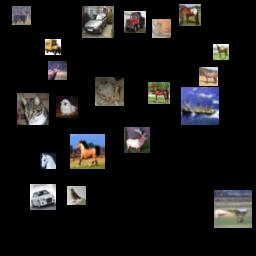airplane: (214, 190, 252, 228)
automobile: (82, 6, 114, 38), (30, 184, 56, 210)
bird: (67, 186, 86, 205)
cat: (17, 93, 49, 125), (152, 19, 171, 38)
deer: (124, 127, 150, 153), (48, 61, 67, 80), (12, 6, 31, 25)
dog: (56, 96, 78, 118)
frog: (95, 77, 124, 106)
ship: (181, 87, 219, 125)
truck: (124, 11, 146, 33), (45, 39, 61, 55)
